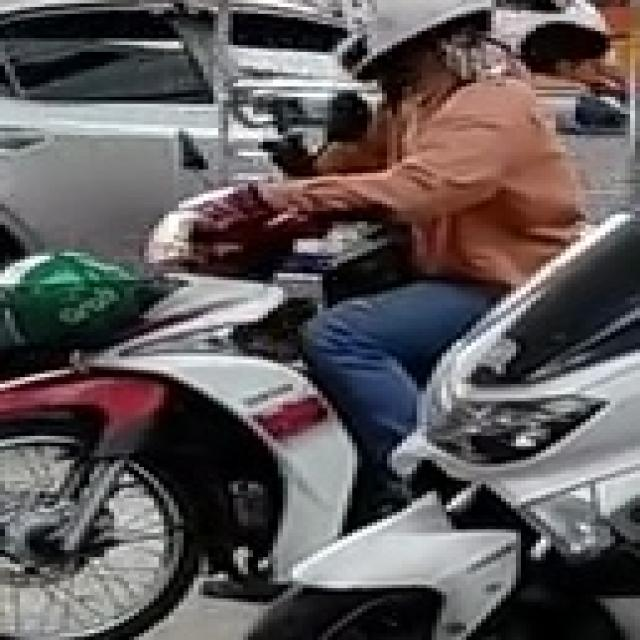door: (0, 121, 179, 277)
helmet: (332, 0, 610, 80), (0, 249, 149, 349)
tyre: (0, 425, 198, 636)
